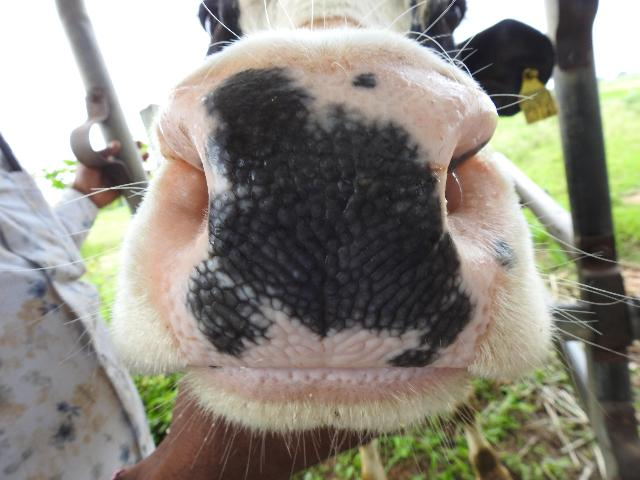Muzzle: (205, 90, 463, 354)
